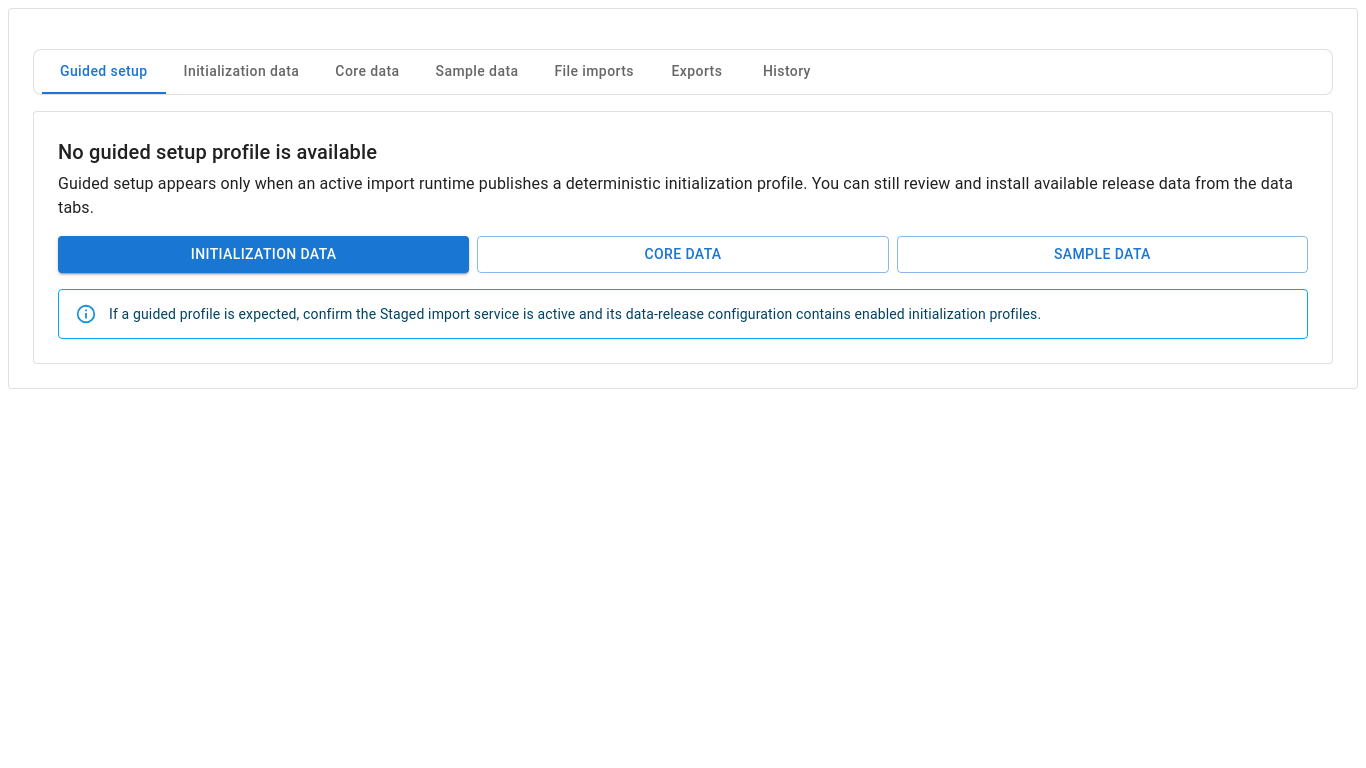
Test: ImportExportRoutePage › shows current releases as audit-only without enabling no-op actions
Click the tab "Core data".
click(368, 72)  # box top-left (317, 50), bottom-right (418, 94)
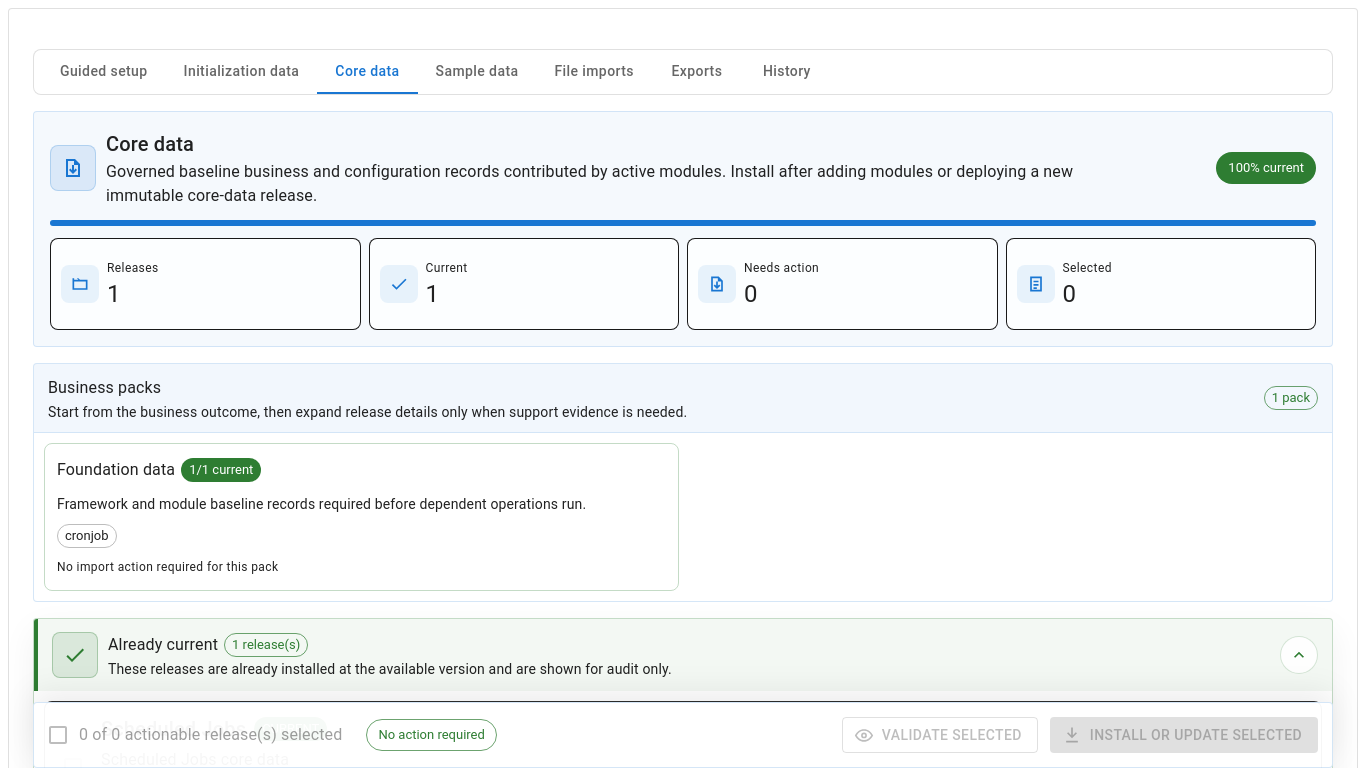
Expected: the heading "Already current" is shown, top-left (108, 631), bottom-right (218, 659)
Click the button "Already current".
click(75, 655)  # box top-left (34, 619), bottom-right (1332, 691)
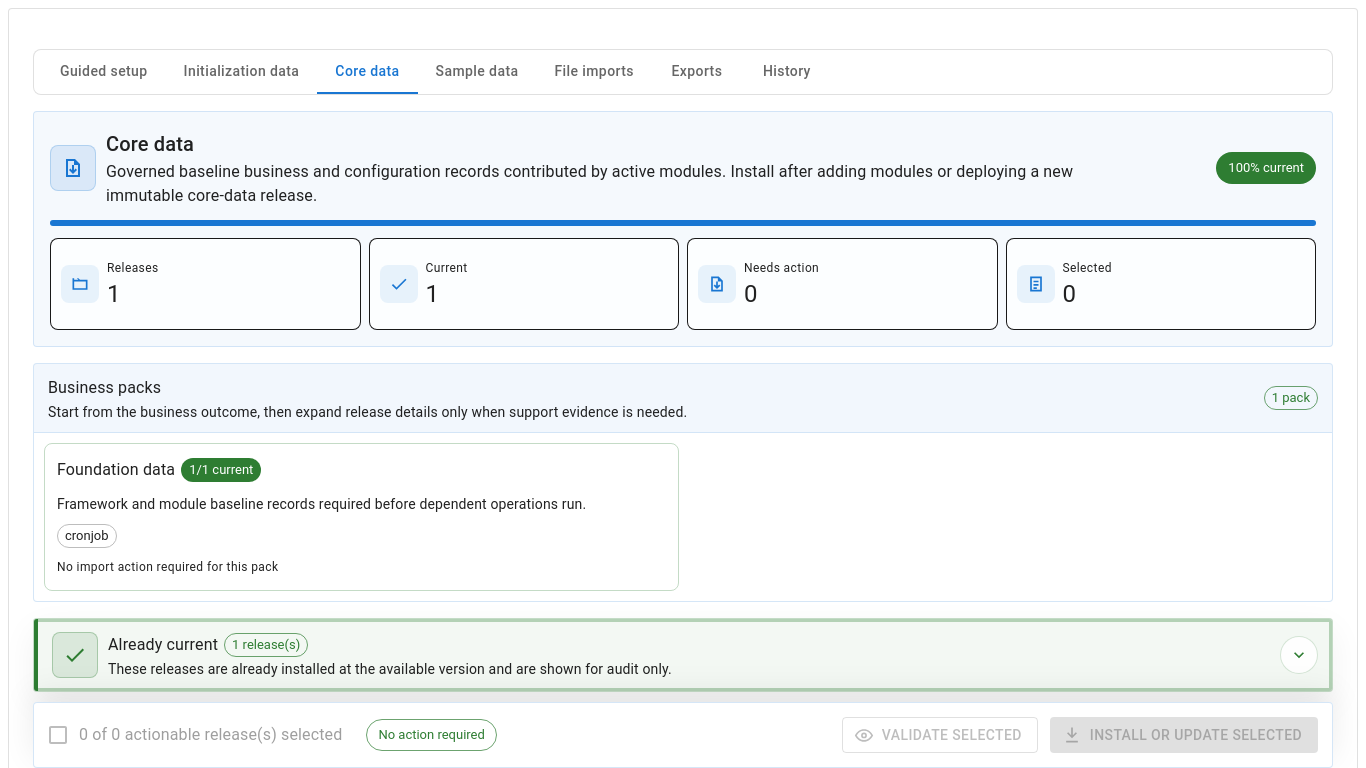
Expected: the button "Already current" is collapsed
Click the button "Already current".
click(75, 655)  # box top-left (34, 619), bottom-right (1332, 691)
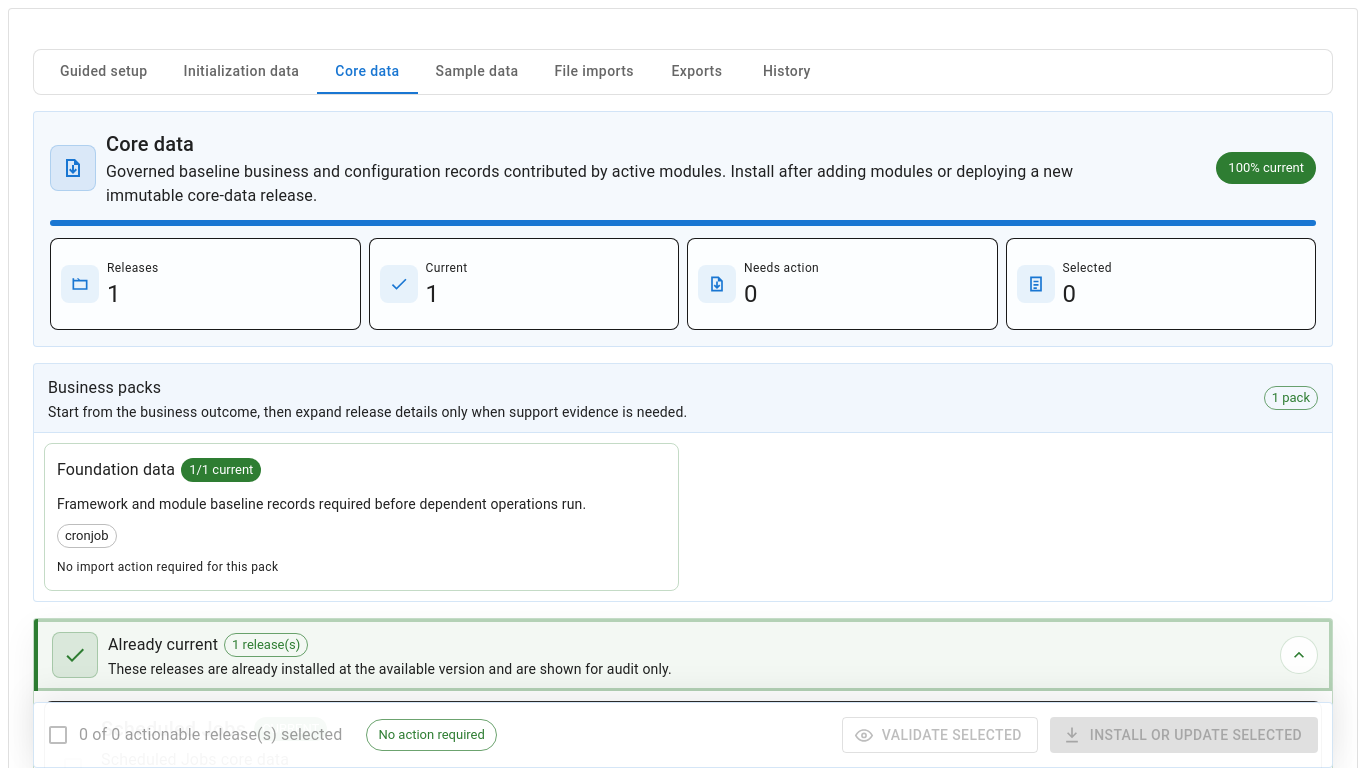
Expected: the text "0 of 0 actionable release(s) selected" is shown, top-left (79, 723), bottom-right (342, 747)
Expected: the button "Validate selected" is disabled, top-left (842, 717), bottom-right (1038, 754)
Expected: the button "Already current" is expanded, top-left (34, 619), bottom-right (1332, 691)
